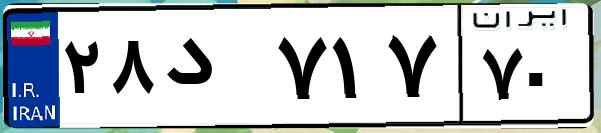0: (525, 38, 570, 115)
1: (330, 28, 385, 110)
2: (57, 26, 110, 100)
7: (270, 28, 330, 110), (385, 28, 445, 110), (475, 38, 525, 113)
8: (110, 28, 158, 98)
د: (158, 20, 270, 120)
